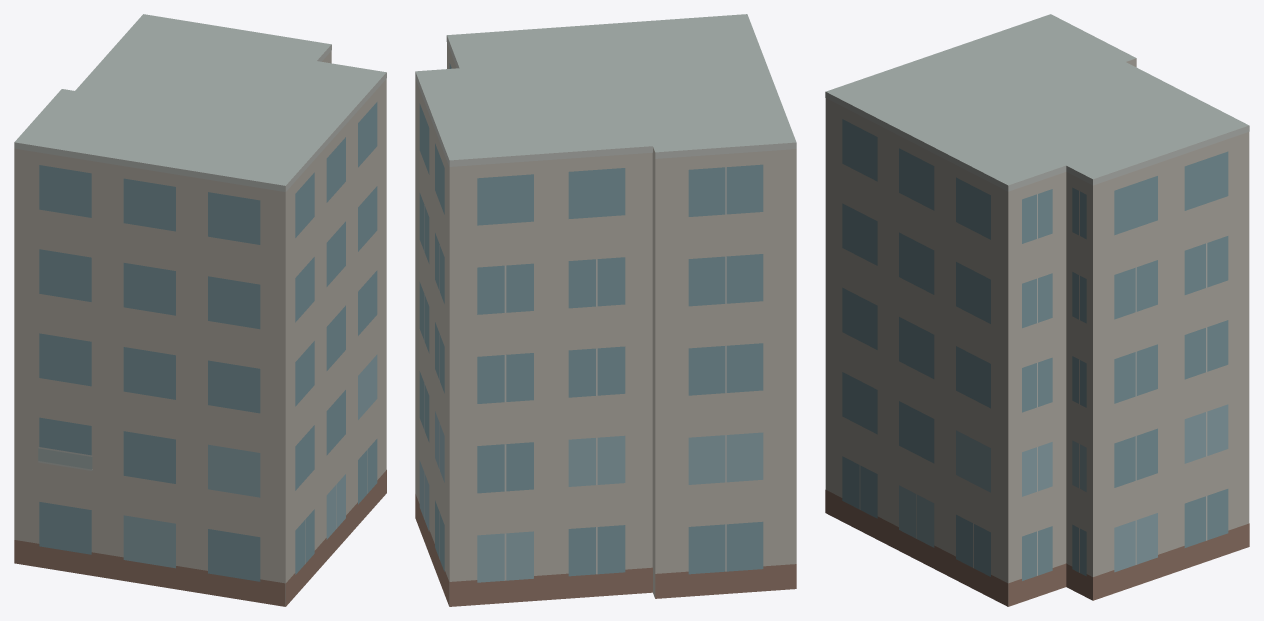
File: survey-upis-32633590.glb
3 renders of one model, left to right at view 1: azimuth 30°, elevation 25°; view 2: azimuth 150°, elevation 25°; view 3: azimuth 270°, elevation 25°, orthographic. The views are drawn at different scales.
Parts seen in each view (by area): view 1: survey-upis-32633590.tmp; view 2: survey-upis-32633590.tmp; view 3: survey-upis-32633590.tmp.
Part boxes in pixels (bbox=[...]): survey-upis-32633590.tmp: bbox=[14, 14, 386, 606]; survey-upis-32633590.tmp: bbox=[415, 14, 796, 606]; survey-upis-32633590.tmp: bbox=[825, 14, 1249, 606].
Size of the model in its own units: 14.41 by 16.5 by 15.05.
